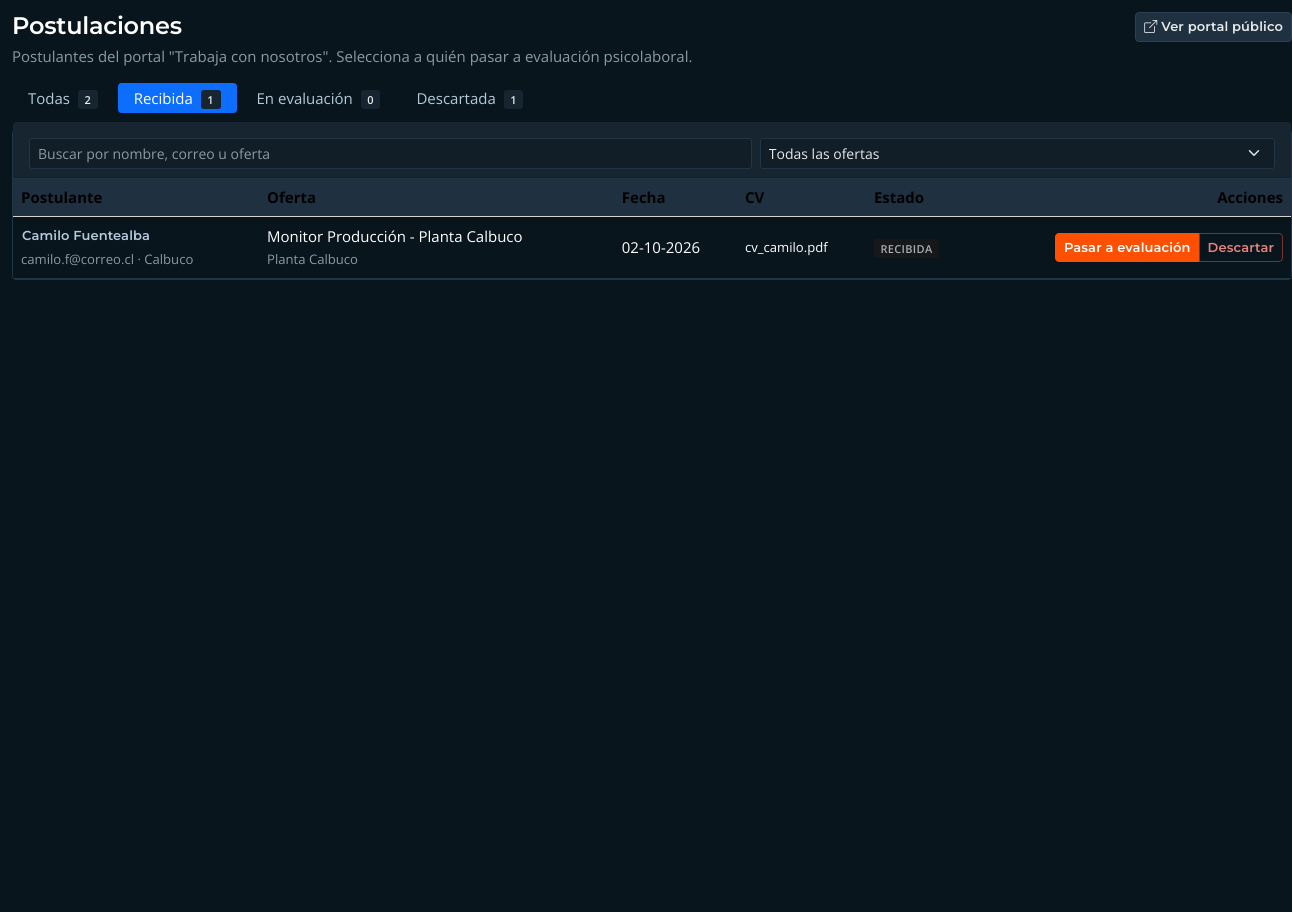
Test: Postulaciones (bandeja del analista) › pasa a evaluación con el formulario de solicitud ya completado
Click the button with aria-label "Pasar a evaluación a Camilo Fuentealba": (1127, 247) [1055, 232, 1200, 262]
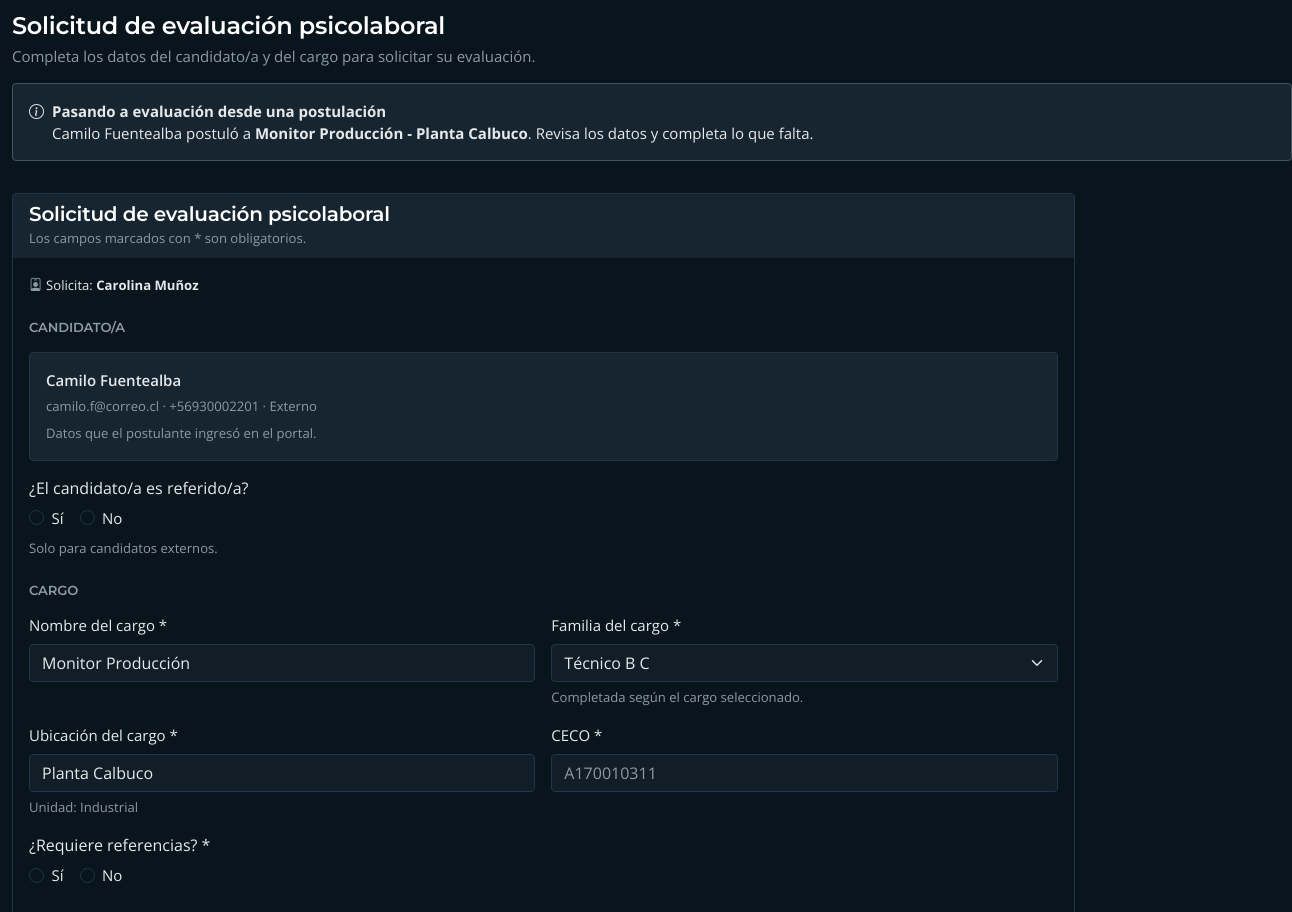
Check: the text "Pasando a evaluación desde una postulación" is shown, box [52, 101, 386, 121]
Check: the text "Camilo Fuentealba" is shown, box [46, 370, 181, 390]
Check: the text "Carolina Muñoz" is shown, box [96, 276, 199, 294]
